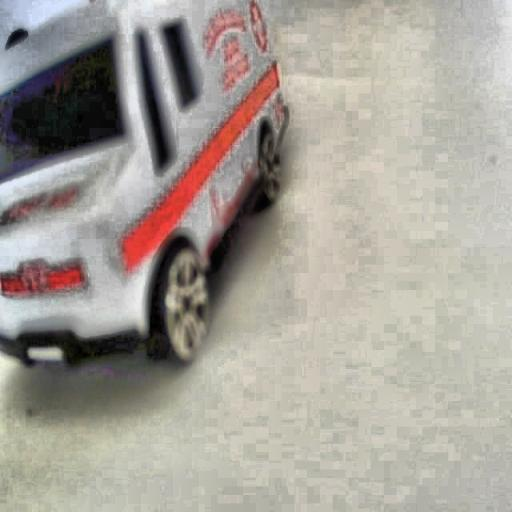ambulance: (0, 0, 289, 369)
